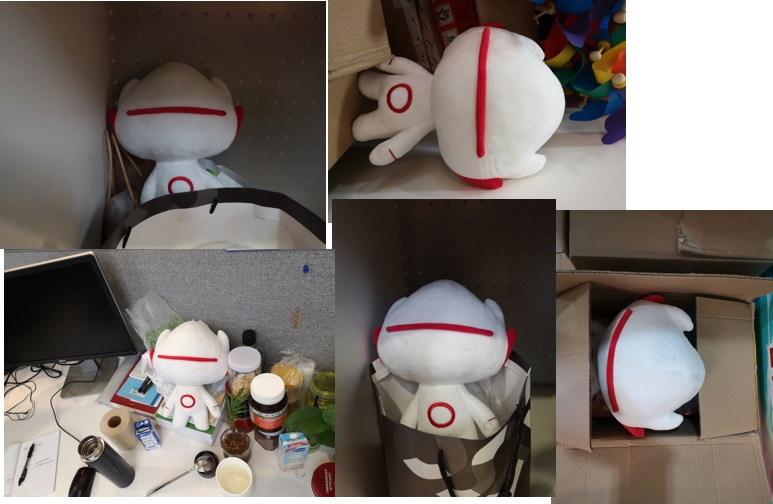yunbao: (110, 36, 274, 234)
